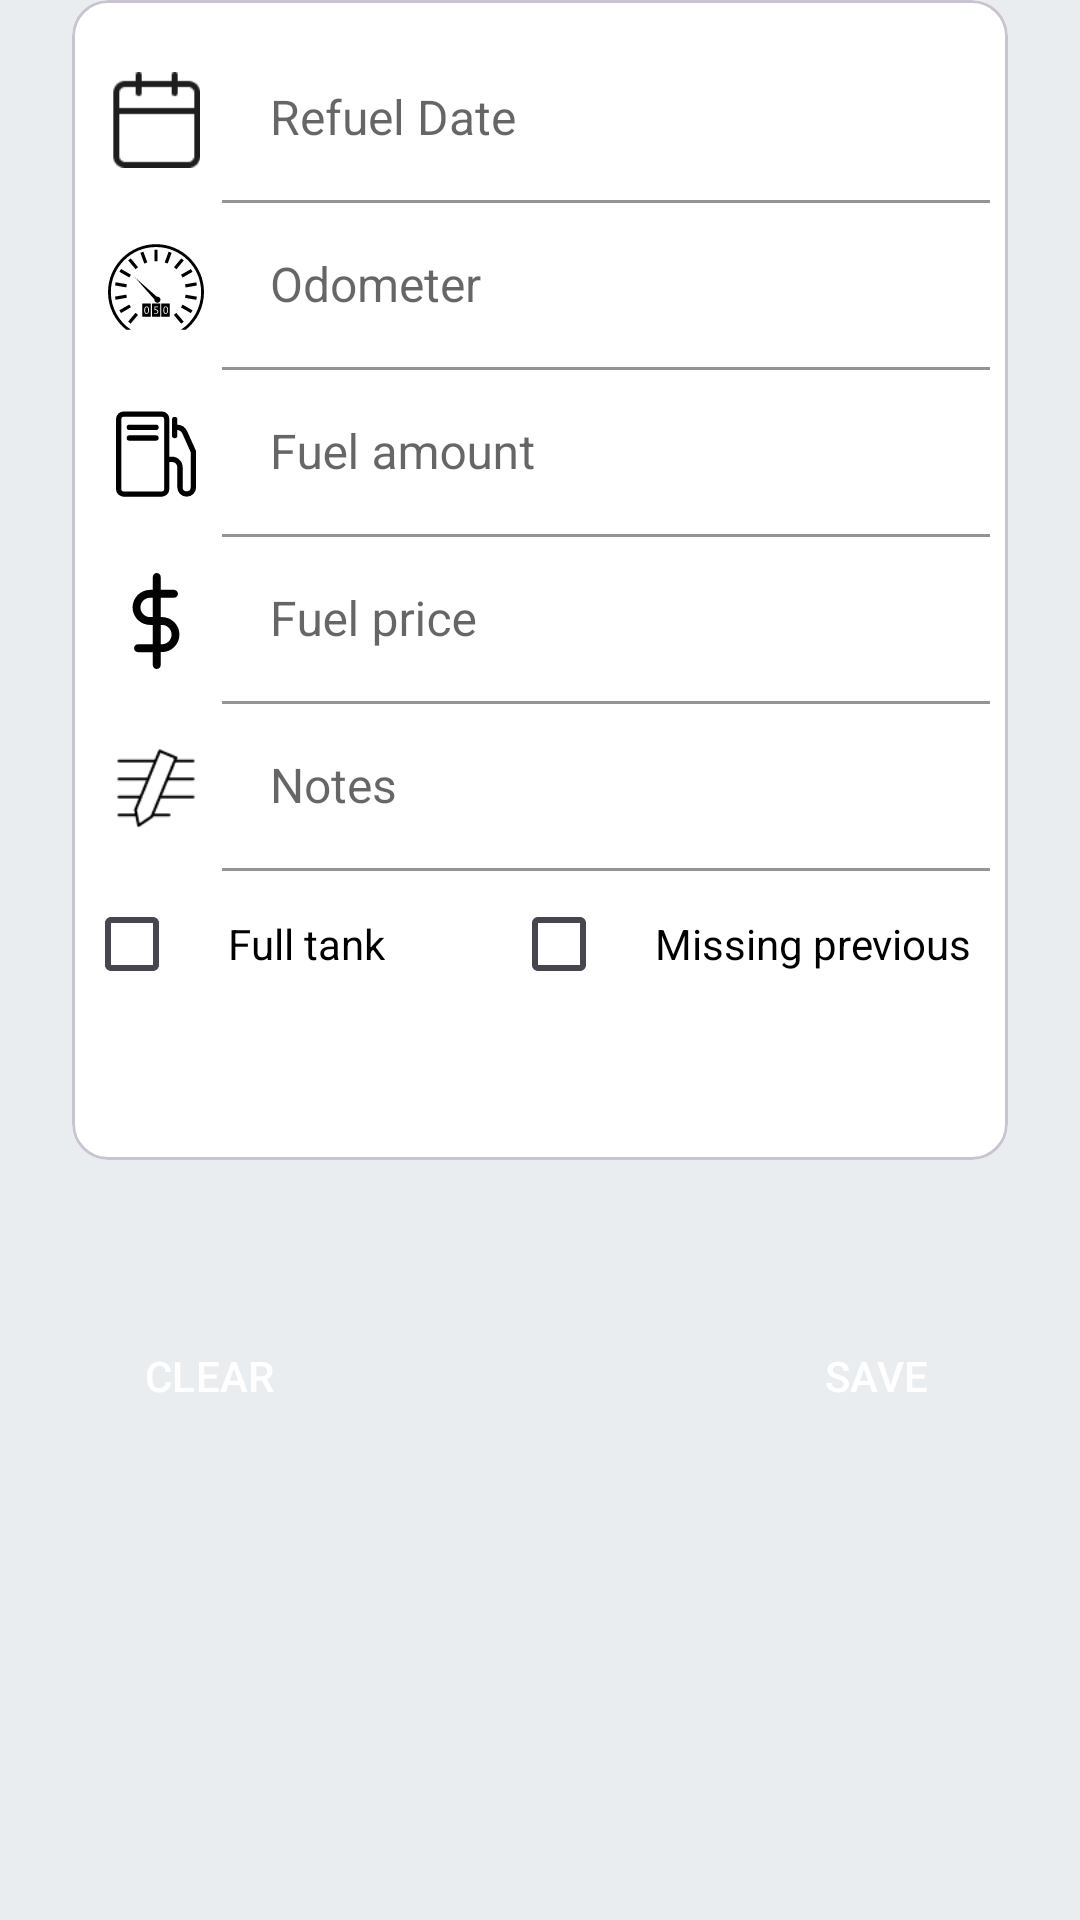

Locate icon controls on the screen. Image size 1080 x 1920, boxes as (x1, y1, x2, y2).
calendar: (113, 72, 200, 168)
currency: (132, 573, 180, 669)
